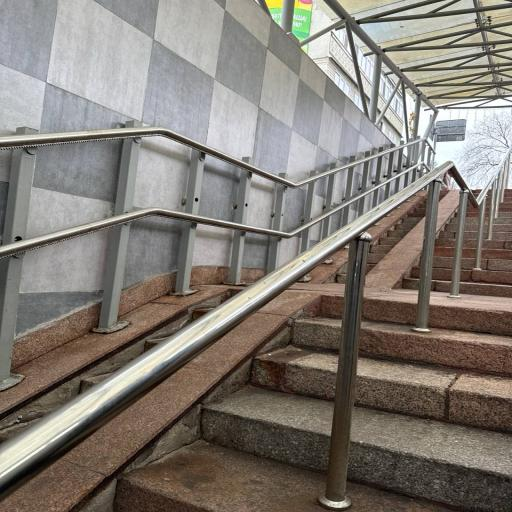entrance: (0, 148, 498, 511)
laptop: (114, 316, 512, 511), (336, 186, 512, 283)
